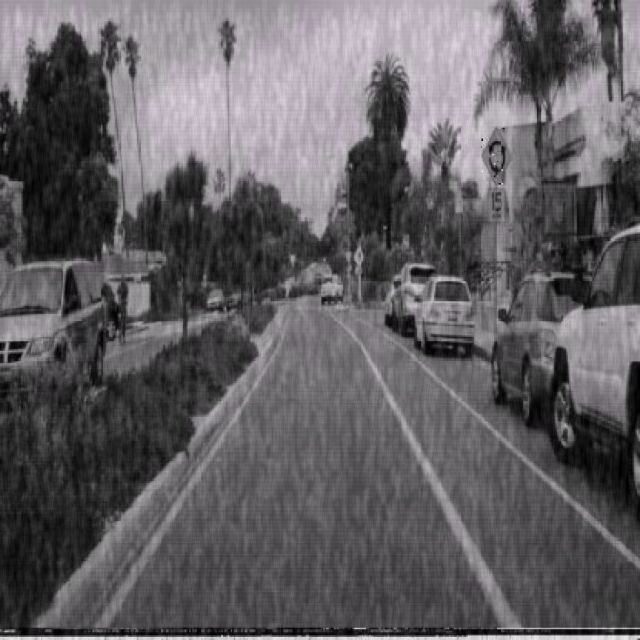roundabout: (480, 125, 512, 187)
